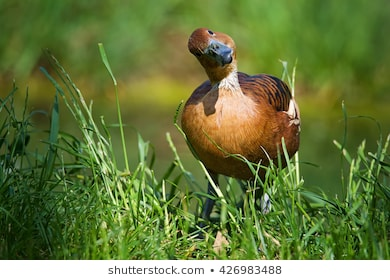duck: (154, 26, 318, 241)
